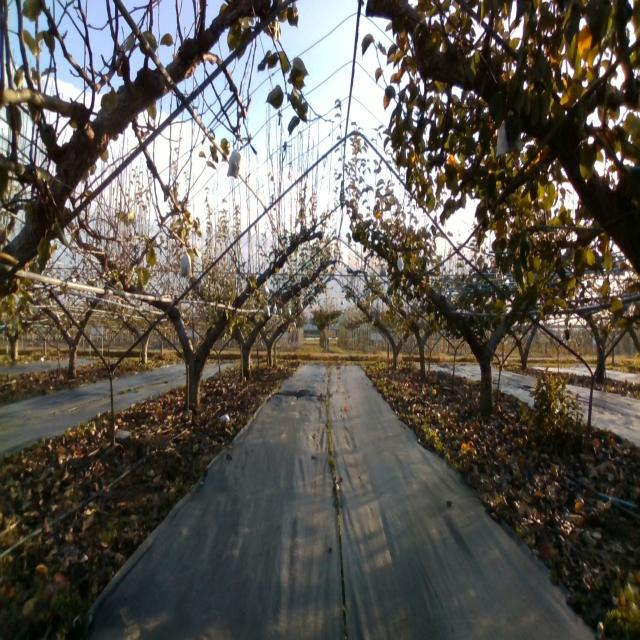pearbags: (227, 144, 241, 179), (178, 245, 192, 278)
